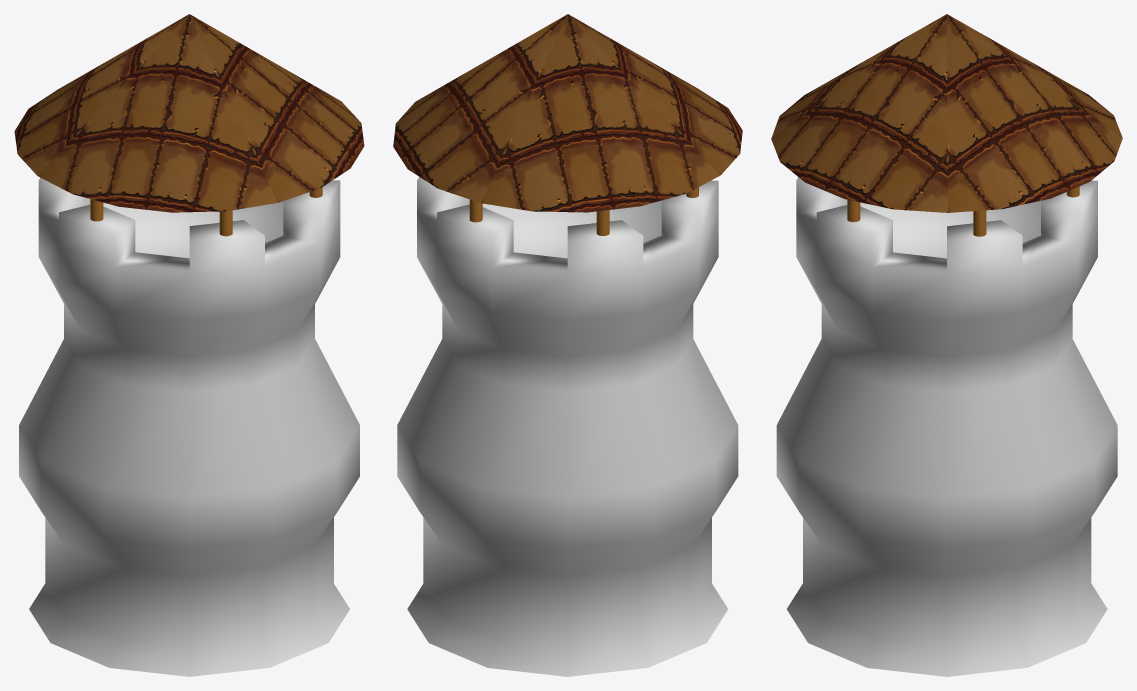
Rendered from Arrowtower.fbx.
3 views of the same model, side by side, from view 1: azimuth 30°, elevation 25°; view 2: azimuth 150°, elevation 25°; view 3: azimuth 270°, elevation 25° (orthographic).
Visible parts, largest first — view 1: Tower, Top; view 2: Tower, Top; view 3: Tower, Top.
Part boxes in pixels (x1,y1,x2,y2): Tower: (19, 178, 359, 676); Top: (14, 14, 364, 236); Tower: (397, 177, 738, 676); Top: (393, 14, 742, 235); Tower: (776, 177, 1117, 676); Top: (771, 14, 1122, 236).
Size of the model in its own units: 4.87 by 9.1 by 4.87.
2 materials, 1 textured.
